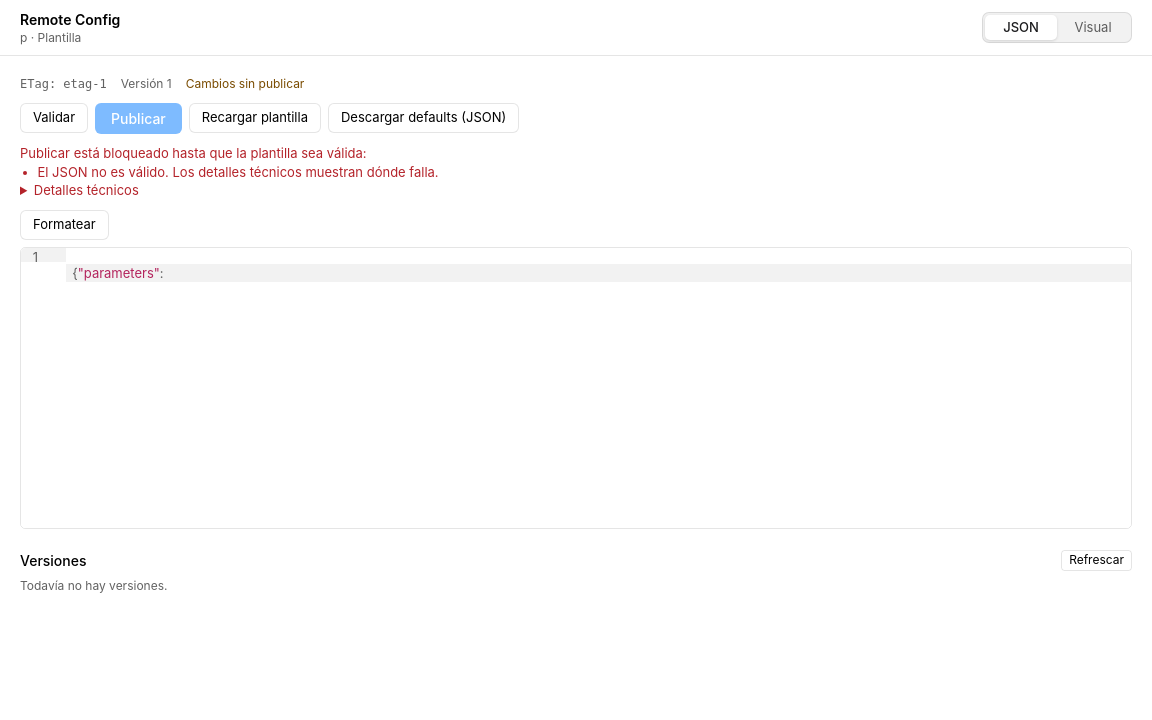
Test: raw service and parser text stays out of the main message (es) › malformed JSON reports a localized problem without the parser exception (draft and validation)
Expected: the text "ETag: etag-1" is shown, x1=20 y1=76 x2=107 y2=92
Expected: the list item shows "no es válido", x1=38 y1=164 x2=439 y2=180
What coordinates should you click on to do the following:
click the button with test id "rc-validate"
I would click on:
 (54, 118)
Its box is x1=20 y1=103 x2=88 y2=133.
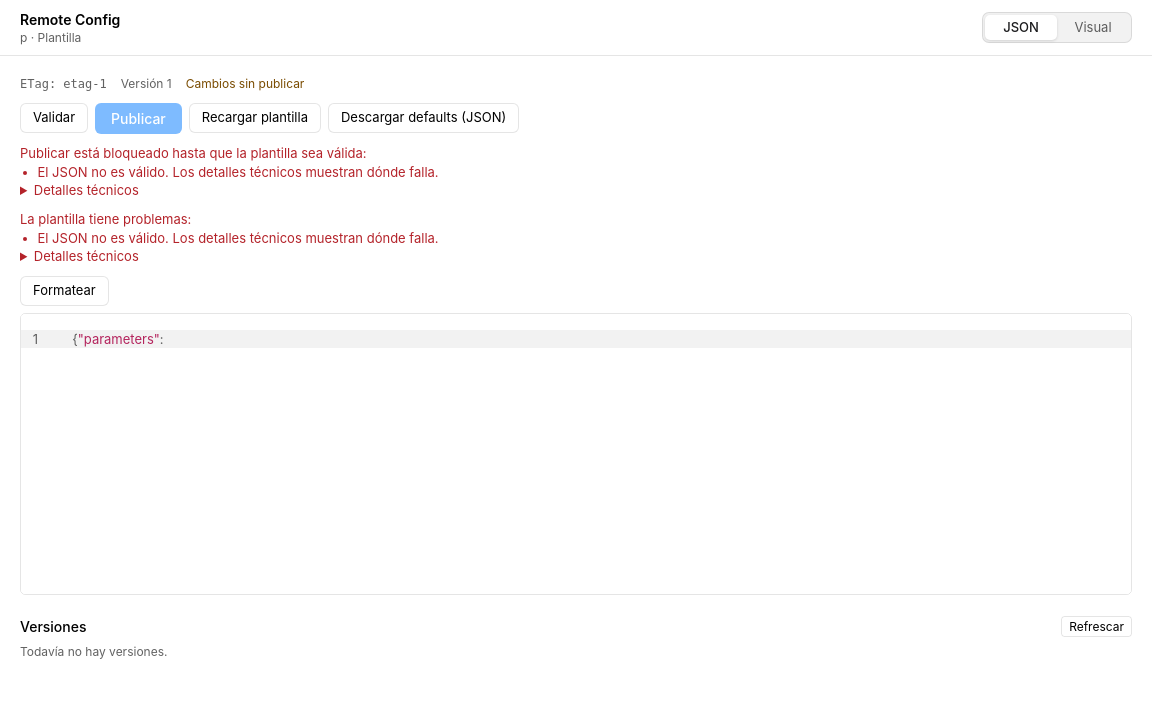
Result: the list item below "La plantilla tiene problemas:" shows "no es válido" at x1=38 y1=230 x2=439 y2=246
Result: the element with test id "rc-validation-error-technical" reads "Detalles técnicos" at x1=34 y1=248 x2=139 y2=264
